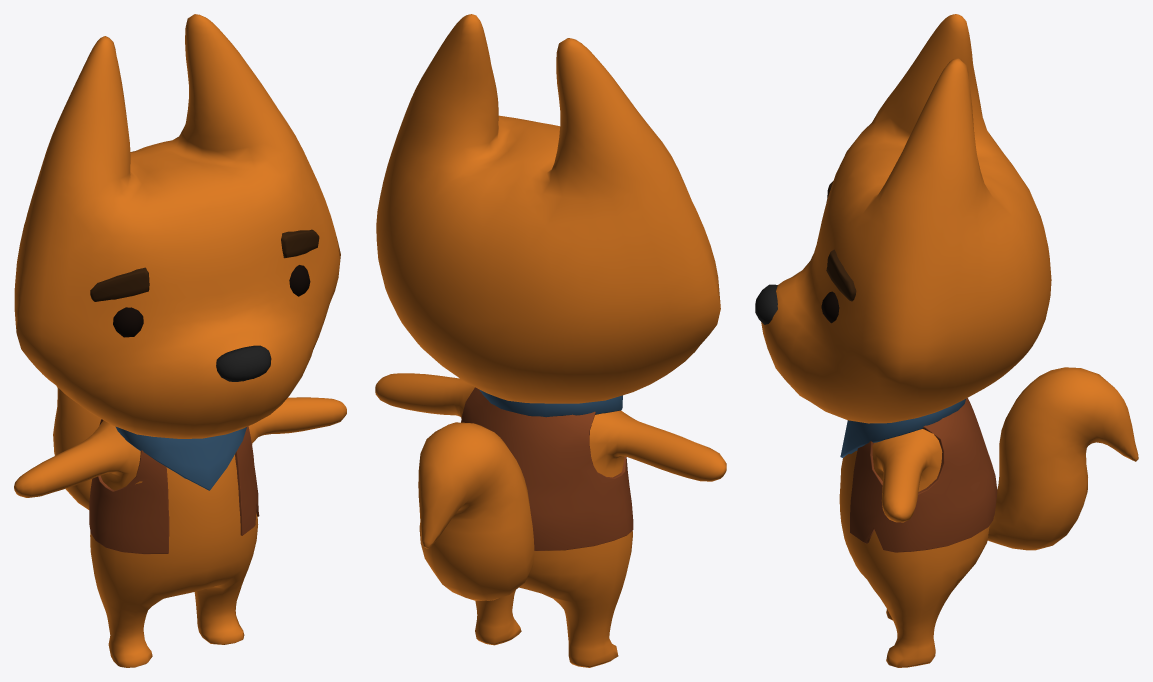
The model's file is Foxo.fbx.
The picture shows the model from 3 angles, left to right: view 1: azimuth 30°, elevation 25°; view 2: azimuth 150°, elevation 25°; view 3: azimuth 270°, elevation 25°; orthographic projection. The views are drawn at different scales.
Visible parts, largest first — view 1: Foxo; view 2: Foxo; view 3: Foxo.
Boxes of the visible parts, x1=… form: Foxo: x1=14, y1=14, x2=346, y2=667; Foxo: x1=375, y1=14, x2=726, y2=667; Foxo: x1=755, y1=14, x2=1138, y2=667.
Bounding box in the file's own units: 1.53 × 2.69 × 1.55.
